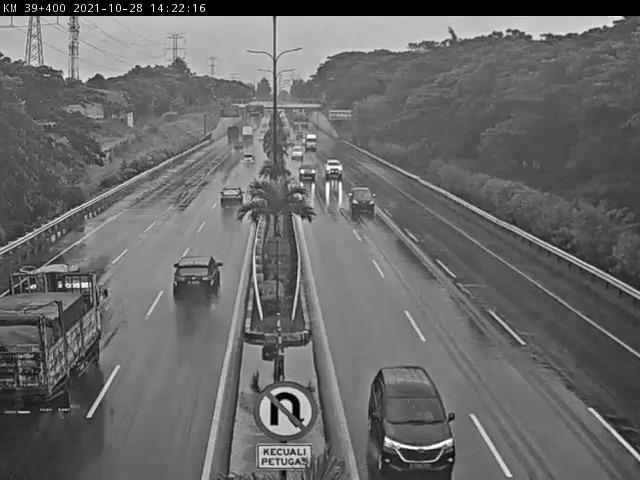car: (367, 363, 458, 480), (171, 254, 222, 301), (346, 185, 381, 214), (213, 183, 247, 210), (236, 154, 259, 174), (296, 162, 315, 181), (324, 158, 342, 177), (289, 143, 305, 159)
small truck: (0, 259, 114, 428)
